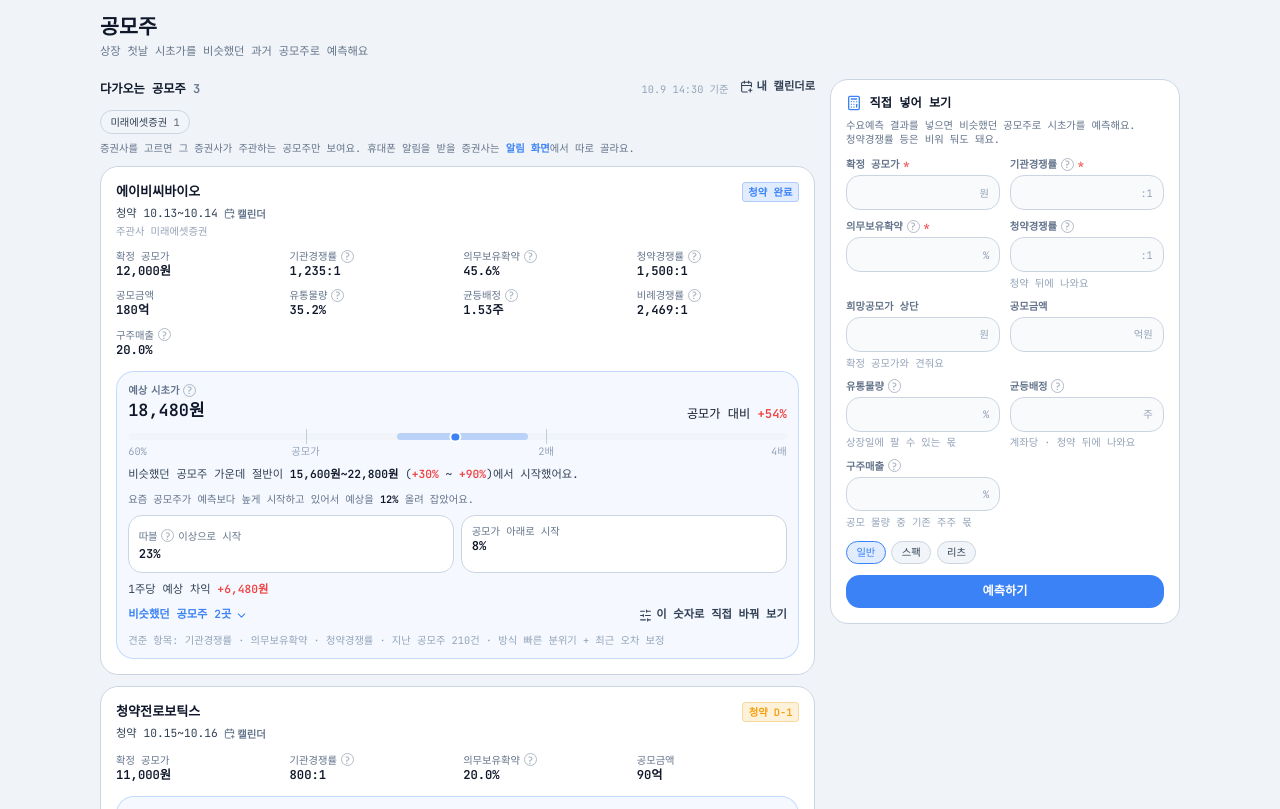
공모주 — 직접 넣어 보기 › 확약은 0~100% 사이여야 한다
Step 1. Type "10000" into the field labelled "확정 공모가 *" → (923, 193), box [846,175,1000,210]
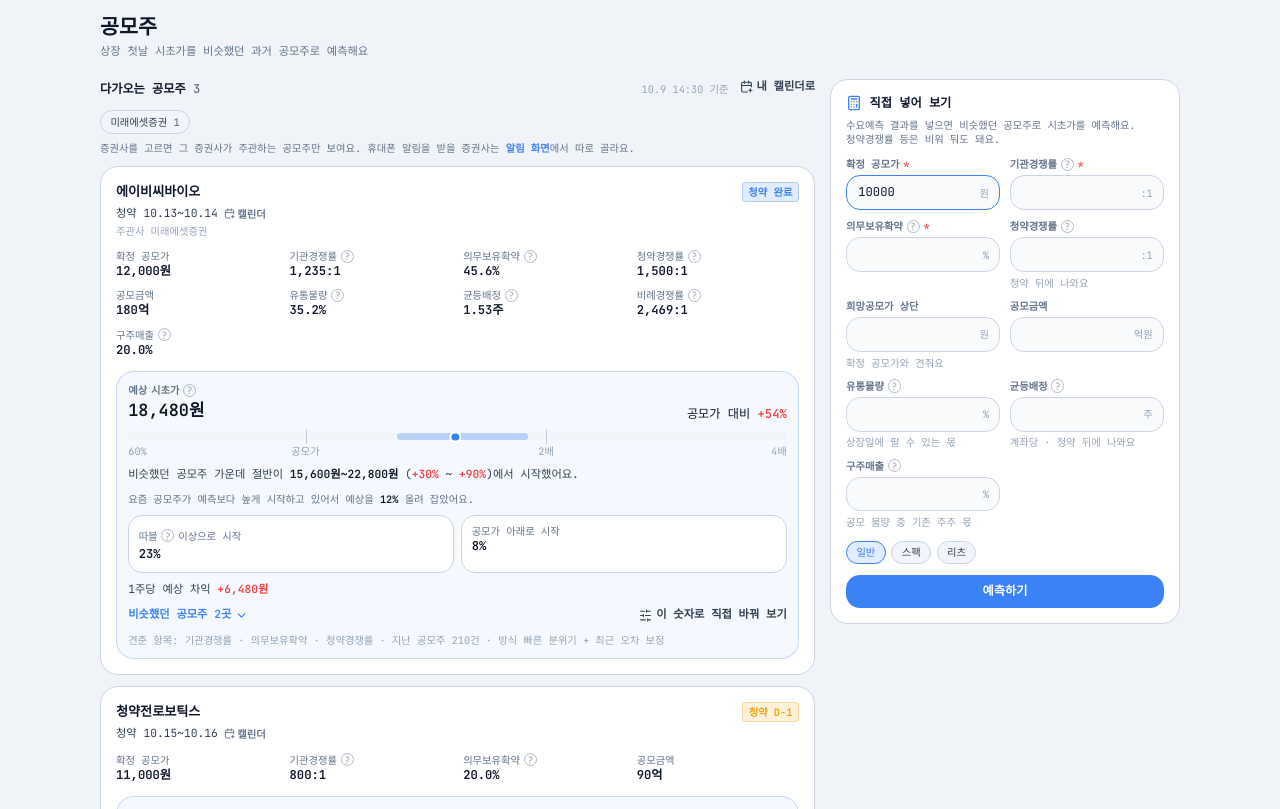
Step 2. Type "100" into the field labelled "기관경쟁률 ? *" → (1087, 193), box [1010,175,1164,210]
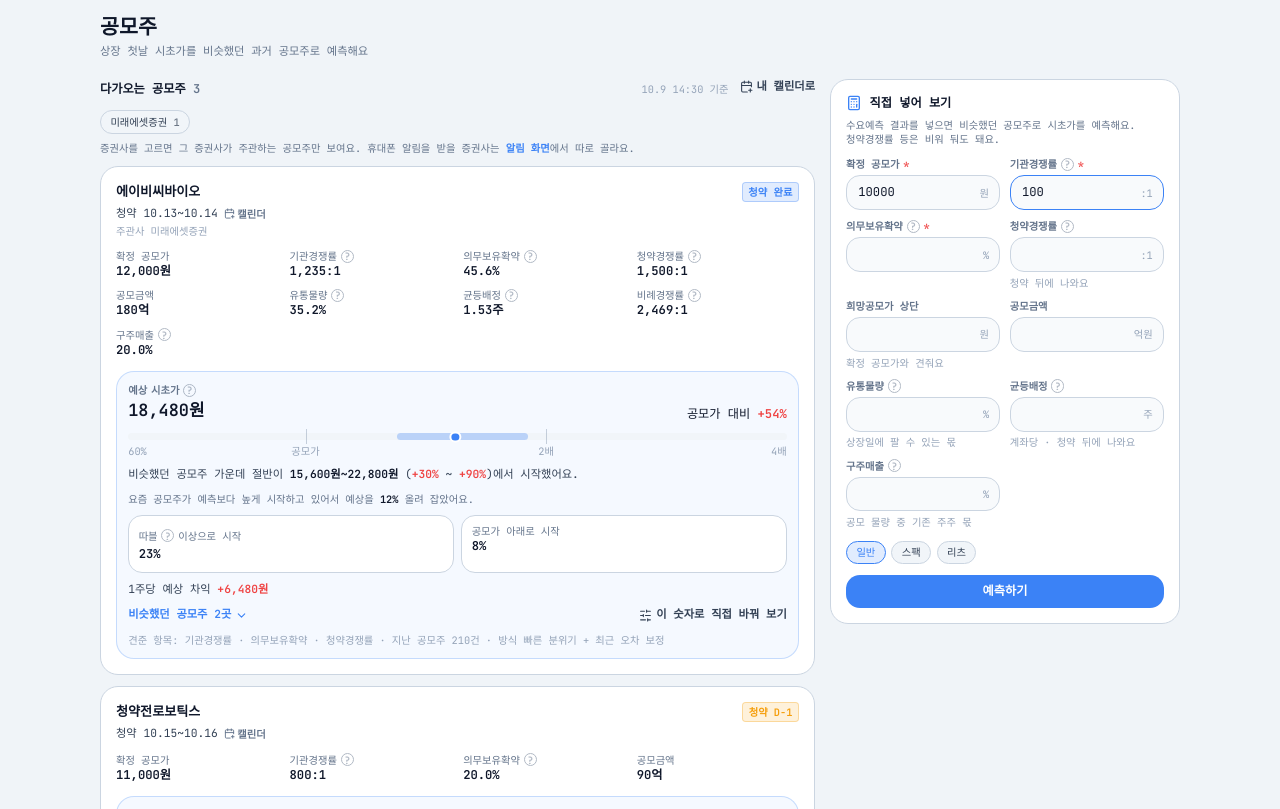
Step 3. Type "120" into the field labelled "의무보유확약 ? *" → (923, 255), box [846,237,1000,272]
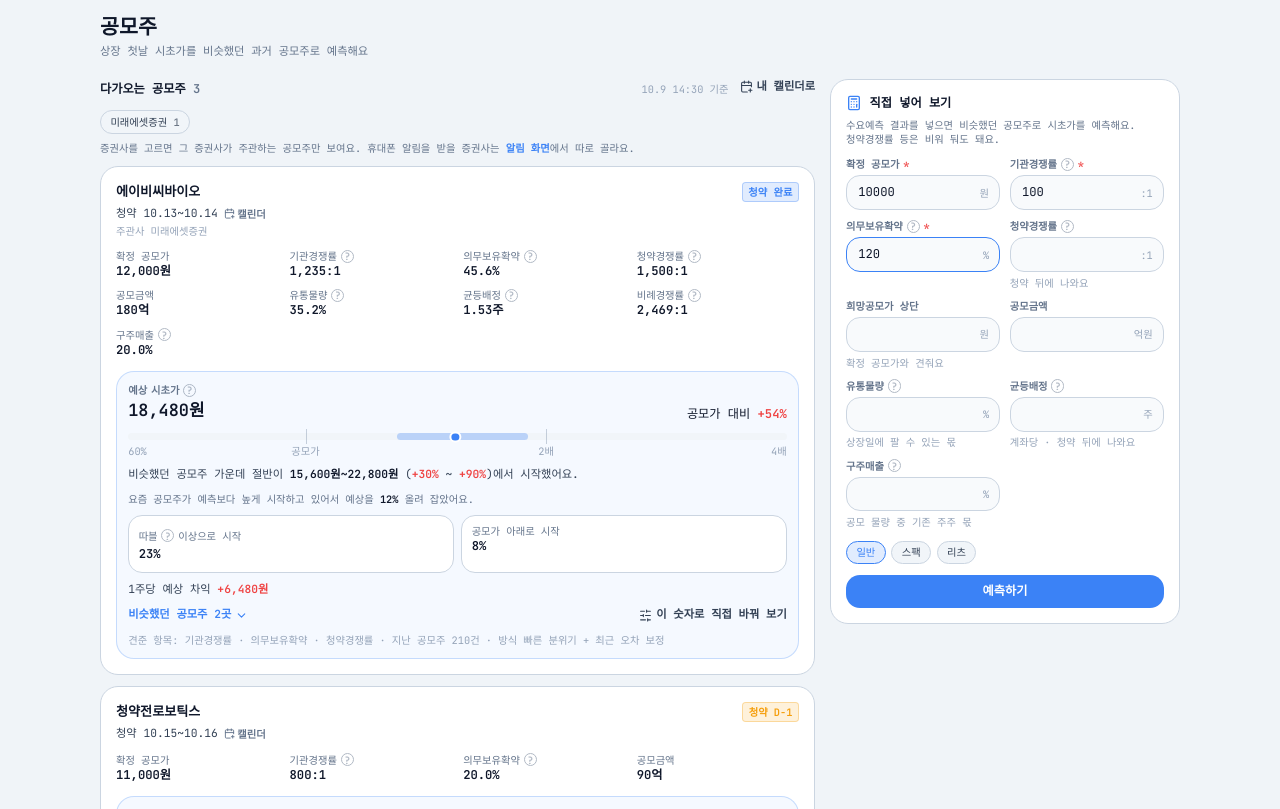
Step 4. Click the button "예측하기" → (1005, 592), box [846,575,1164,608]
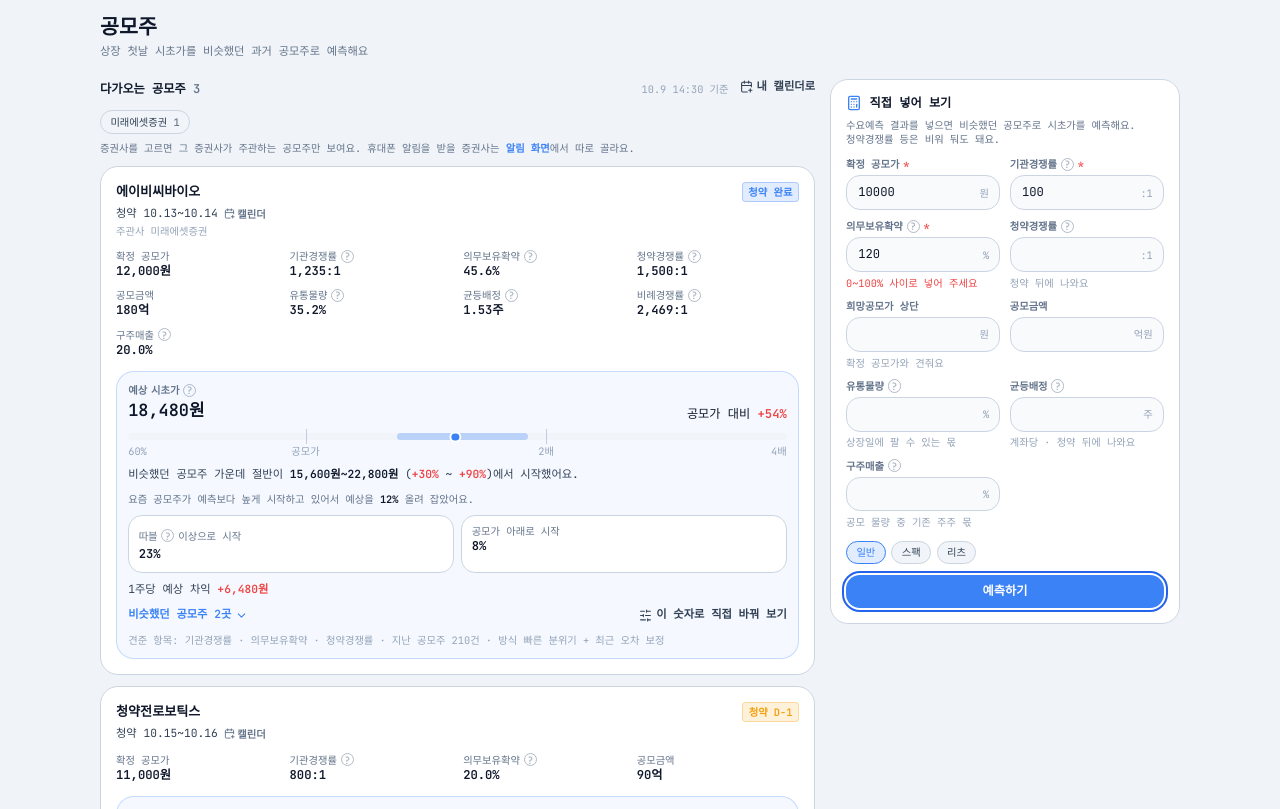
Now the text "0~100% 사이로 넣어 주세요" is shown, box [846,276,1000,290]
